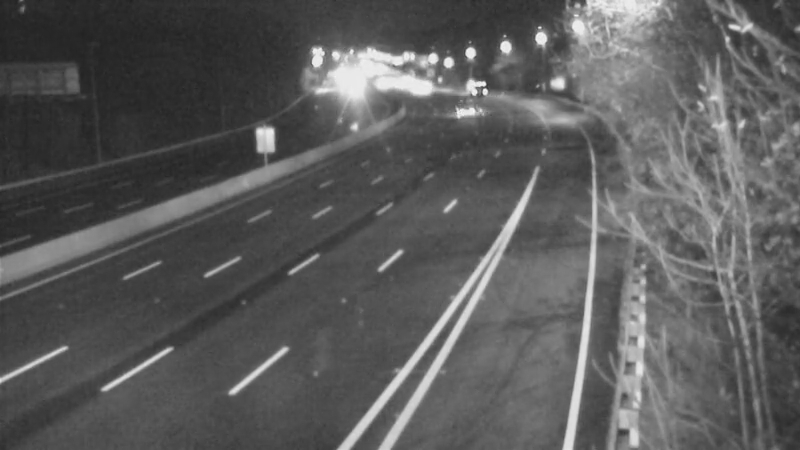vehicle: (450, 56, 500, 106), (435, 82, 485, 132)
